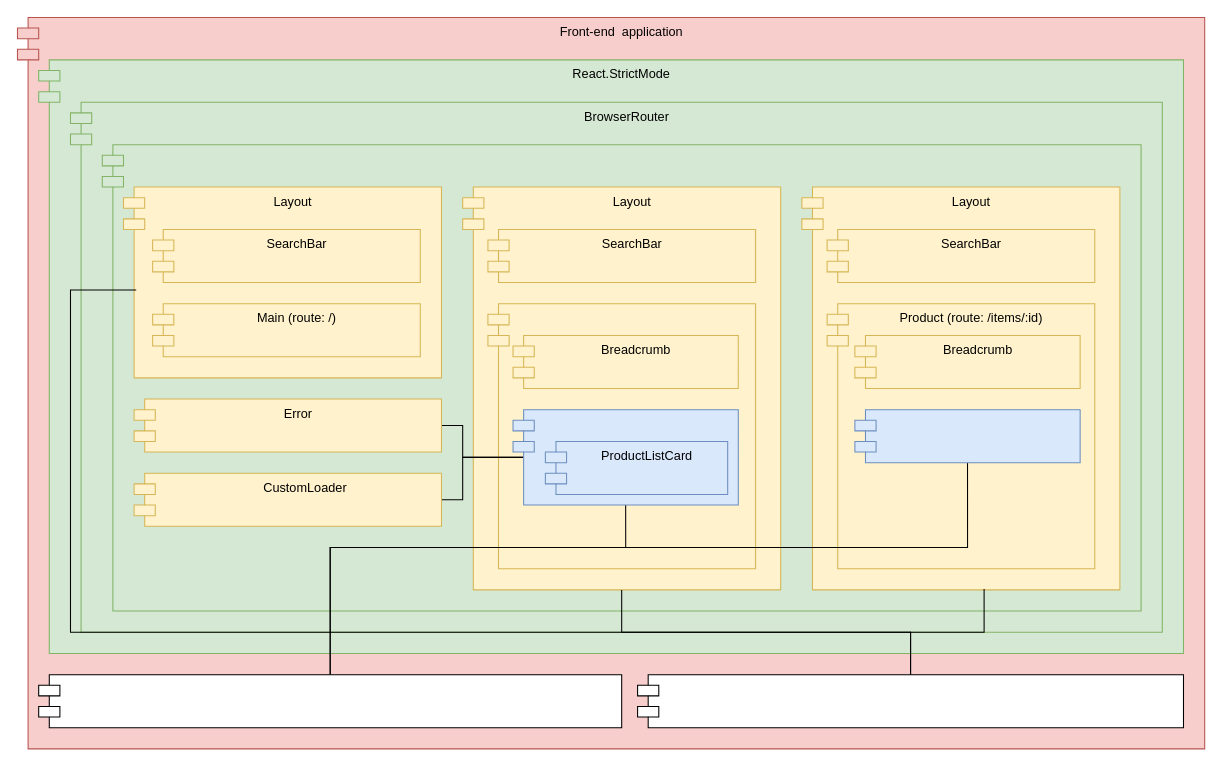
The diagram is 1222 pixels wide and 766 high, and some of its shapes have lost their labels. The shapes that lost their labels are listed below. From the top down, each one's box as (x1, y1, x2, y2) in pixels, then its label:
(101, 144, 1141, 611): Routes
(487, 303, 756, 569): Search (route: /items?search=)
(854, 409, 1080, 463): Product
(512, 409, 738, 505): Search
(38, 674, 622, 728): Api
(637, 674, 1183, 728): useWindowSize (custom hook)
